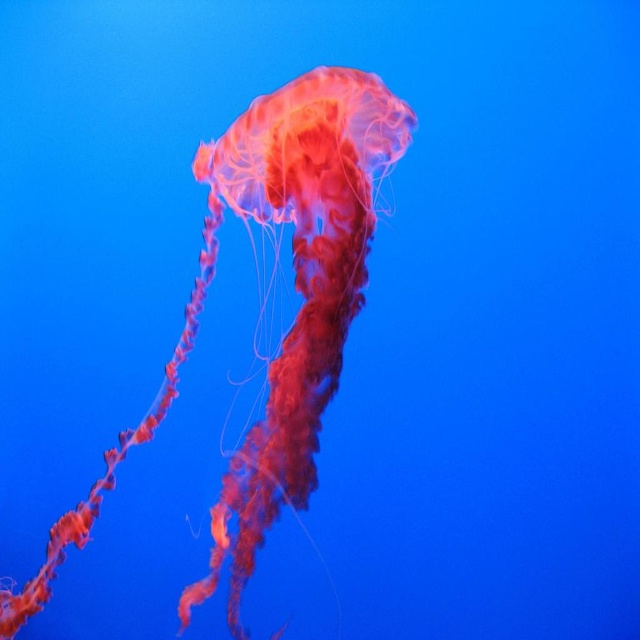Jellyfish: (0, 63, 418, 639)
